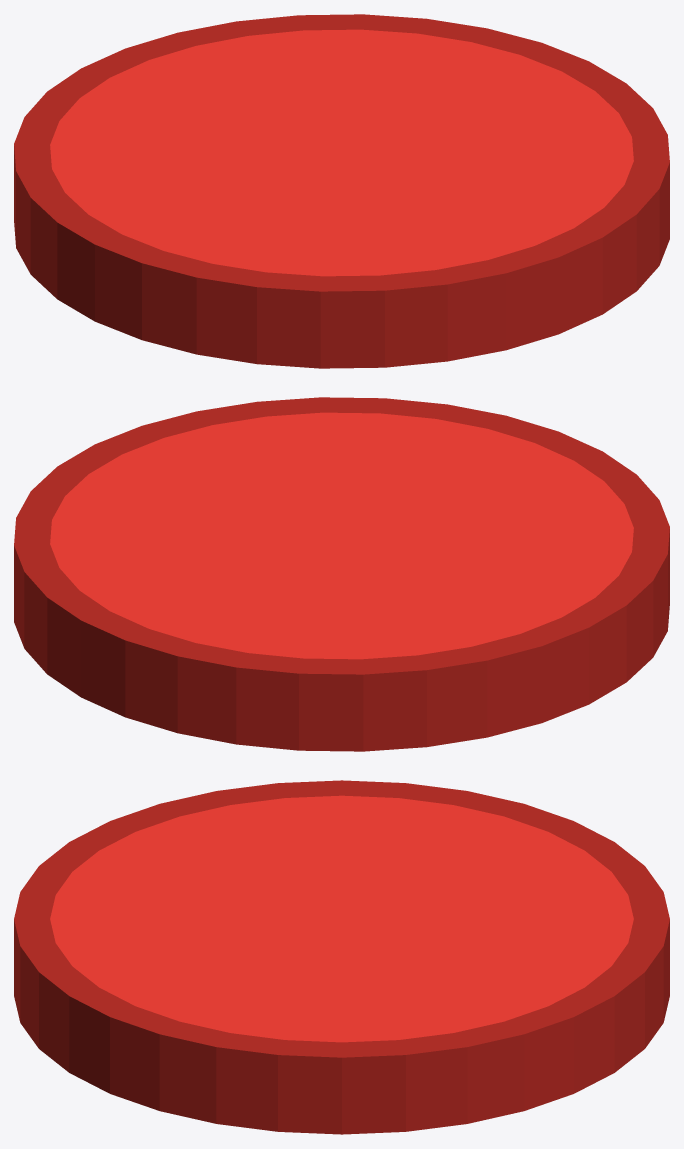
The model's file is Piece_9.fbx.
3 views of the same model, one above another, from view 1: azimuth 30°, elevation 25°; view 2: azimuth 150°, elevation 25°; view 3: azimuth 270°, elevation 25° (orthographic).
Visible parts, largest first — view 1: Cylinder.004; view 2: Cylinder.004; view 3: Cylinder.004.
Part boxes in pixels (x1,y1,x2,y2): Cylinder.004: [14, 14, 669, 368]; Cylinder.004: [14, 397, 669, 751]; Cylinder.004: [14, 780, 669, 1134].
Bounding box in the file's own units: 200 × 25.86 × 200.
